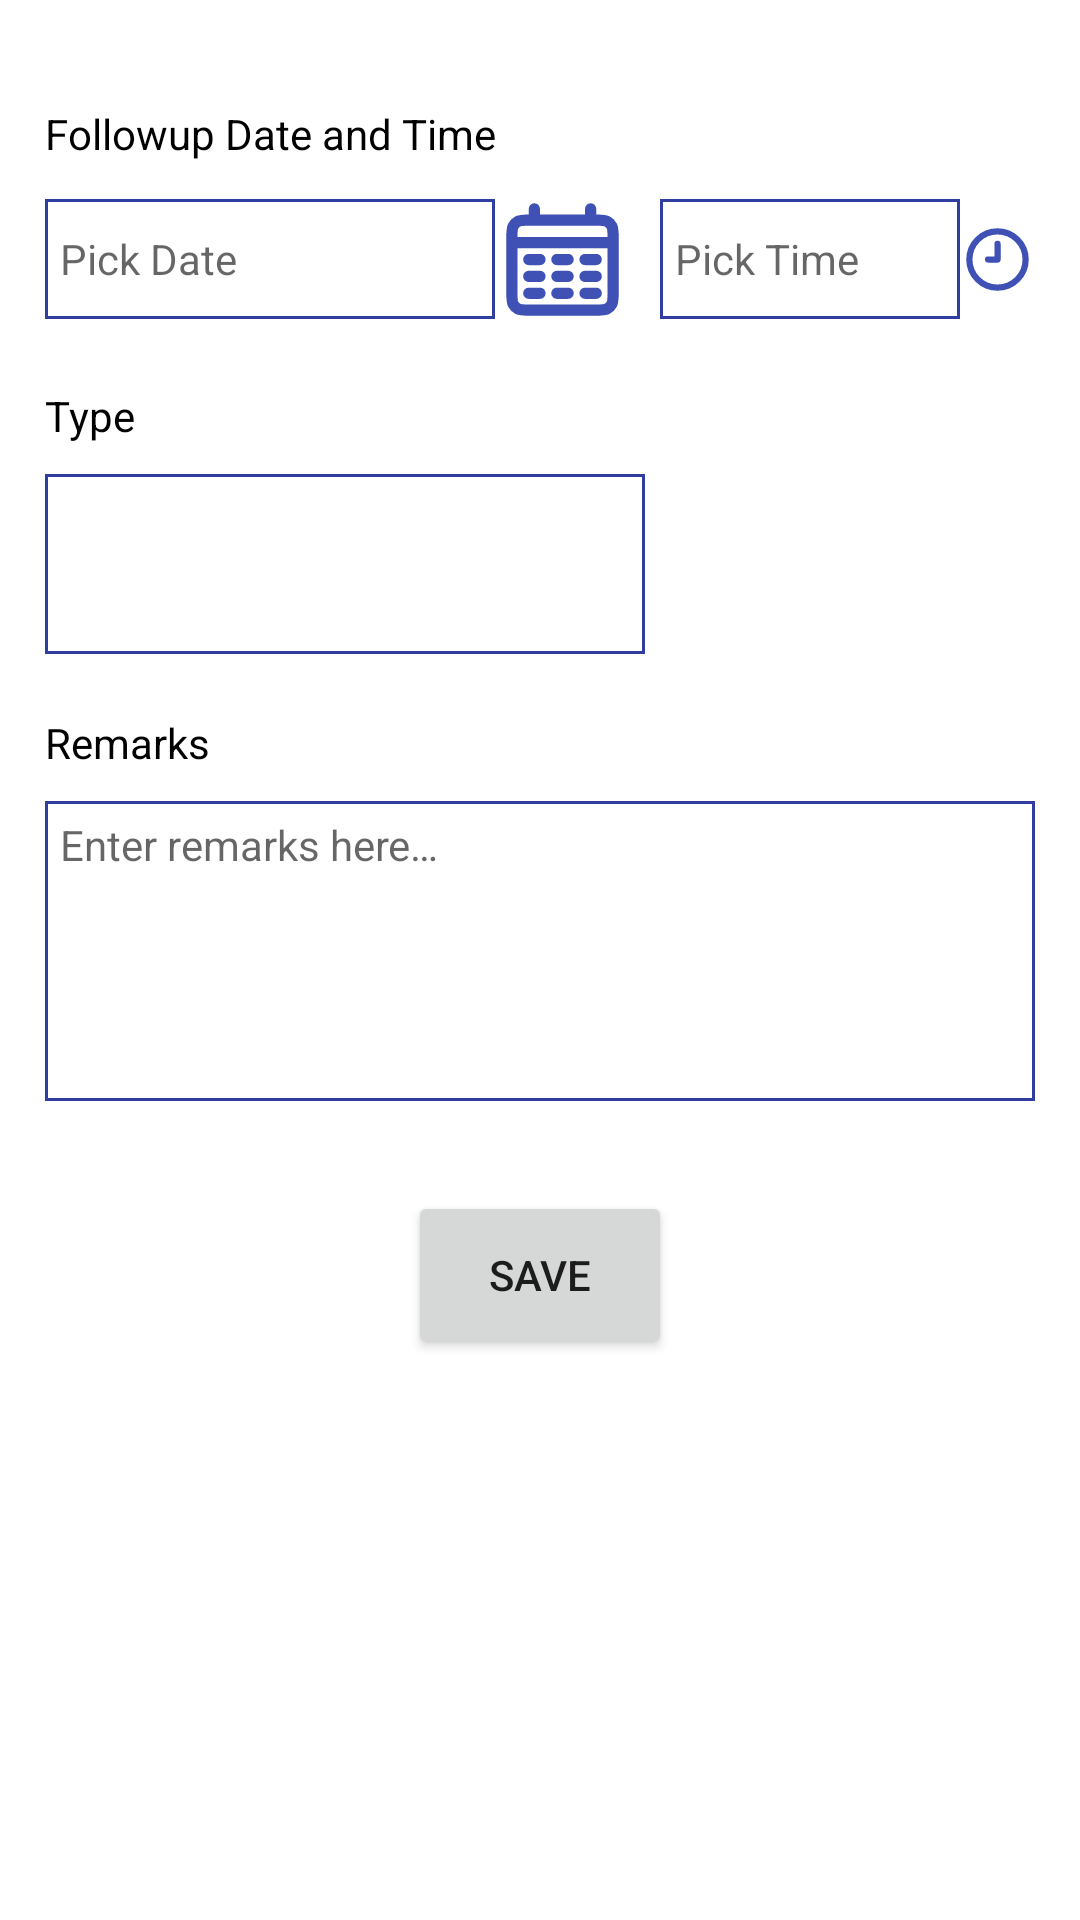

Named icons in this screenshot (1080w x 1920h) and their centers, [x,y]:
calendar: [562,259]
clock: [997,259]
